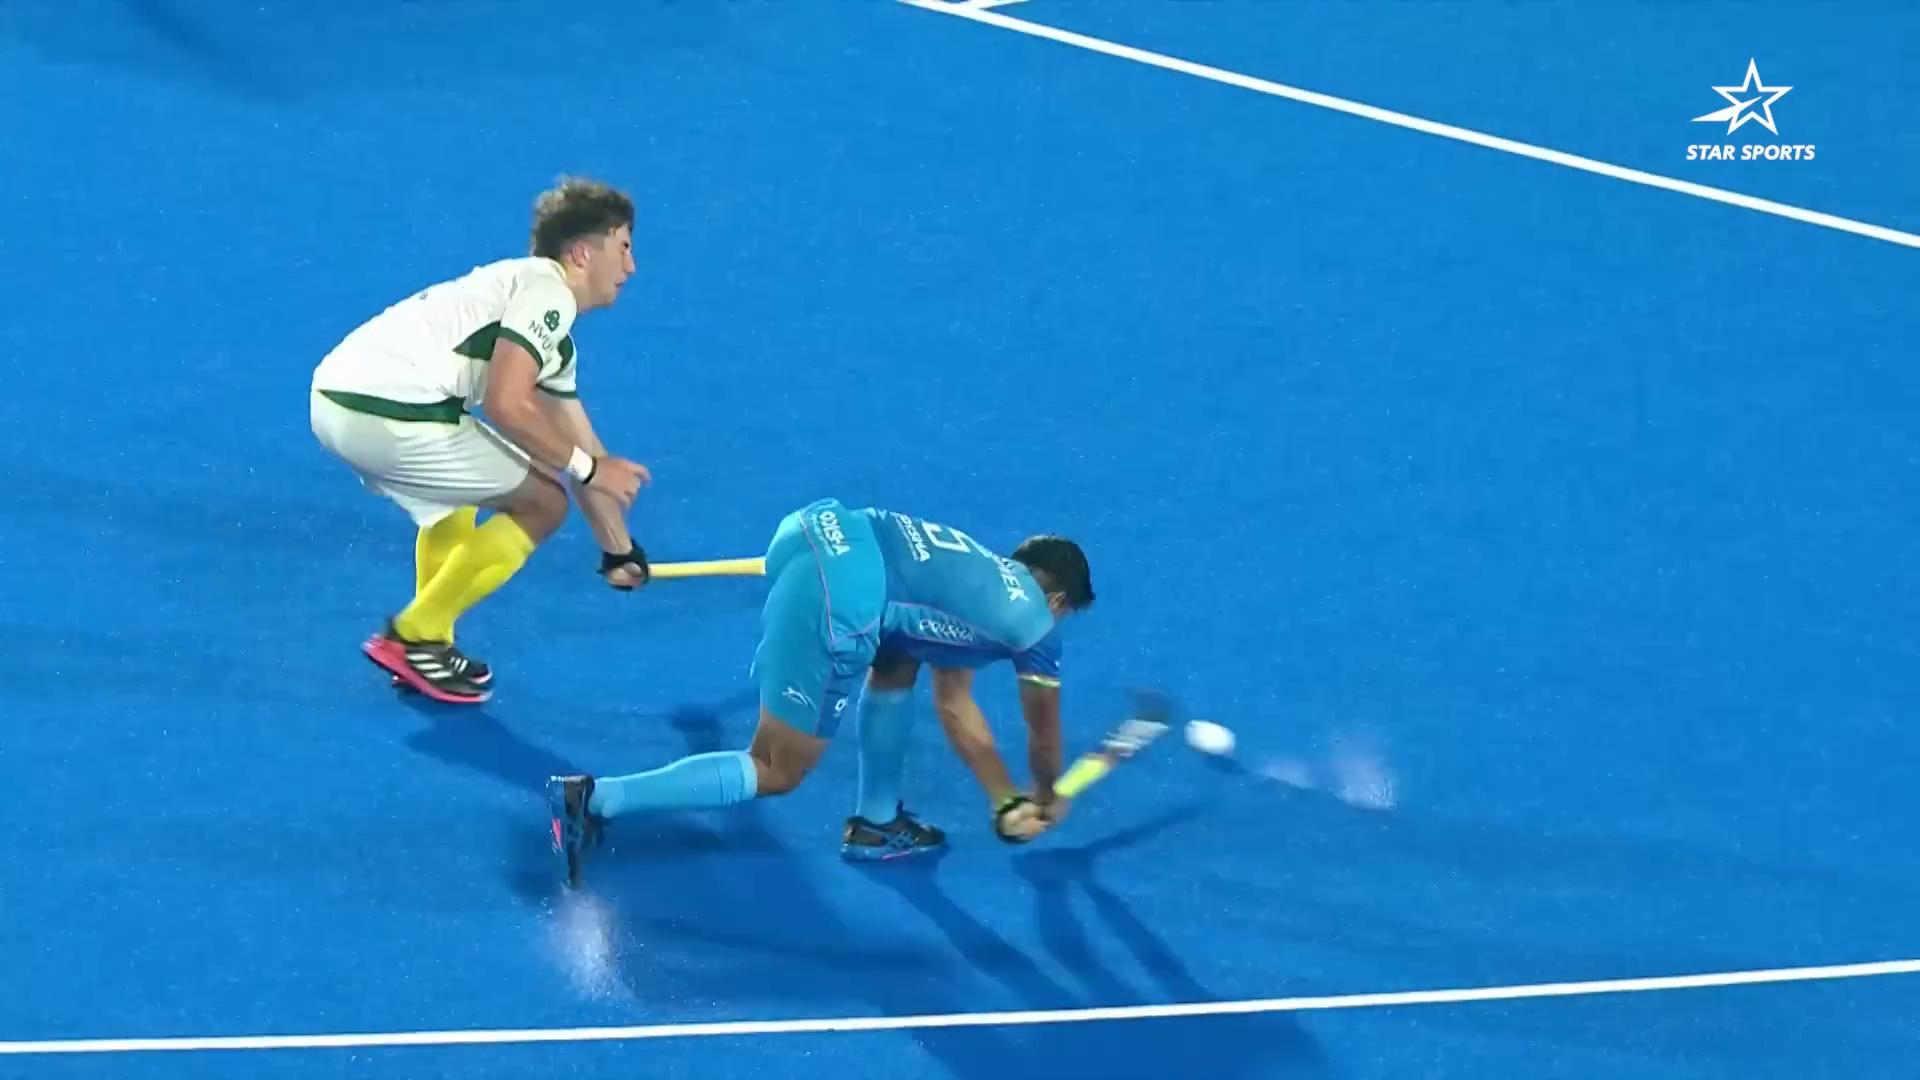ball: (1160, 707, 1245, 781)
